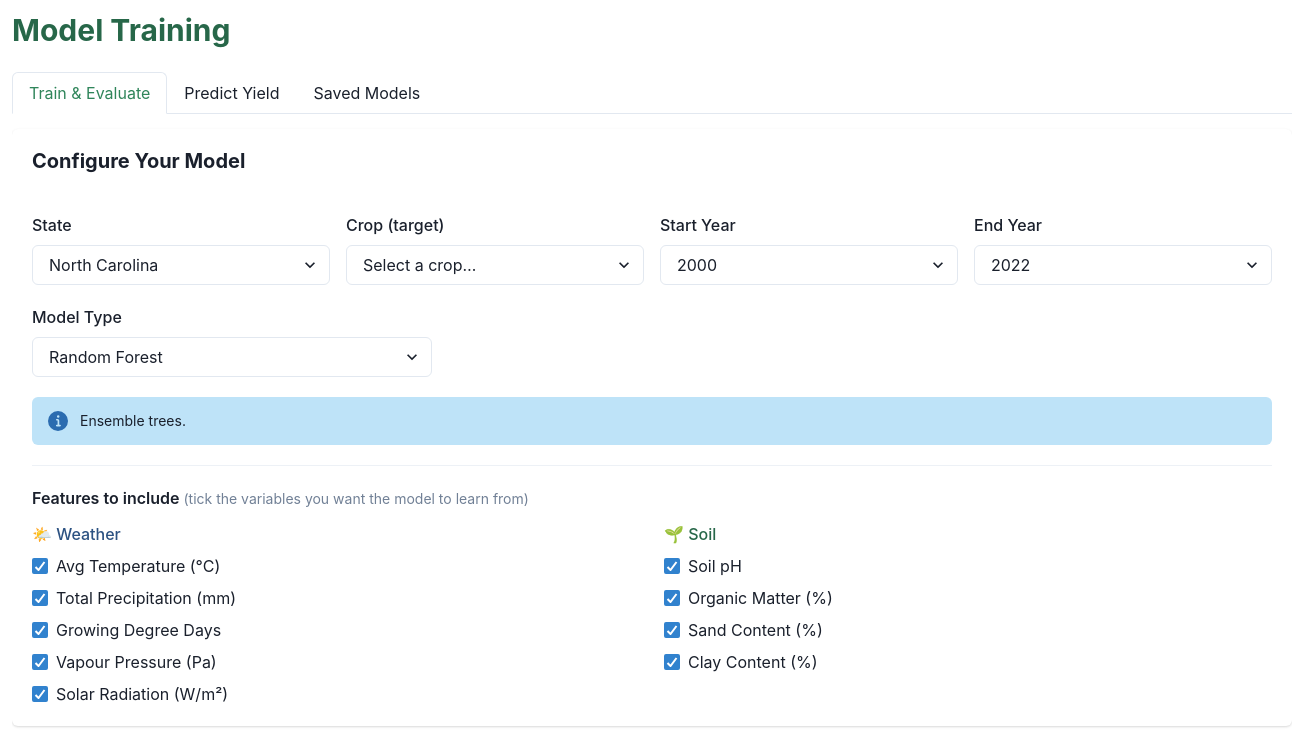
Test: Model page – Saved Models tab › shows empty state when no saved models
Click the tab "Saved Models". click: (367, 93)
box: [296,72,437,114]
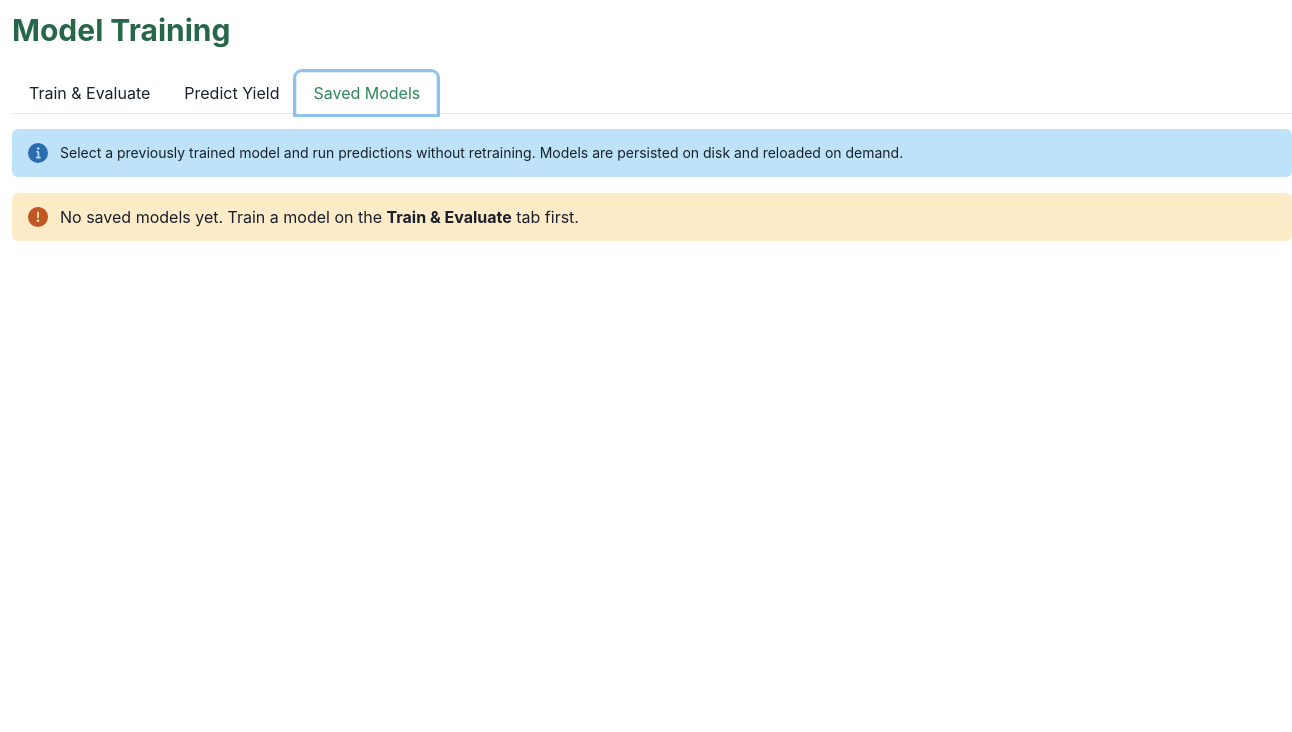
Expected: the text "No saved models yet" is shown, [60,207,386,227]
